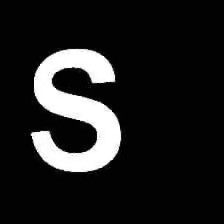LTR_S: (23, 41, 127, 179)
